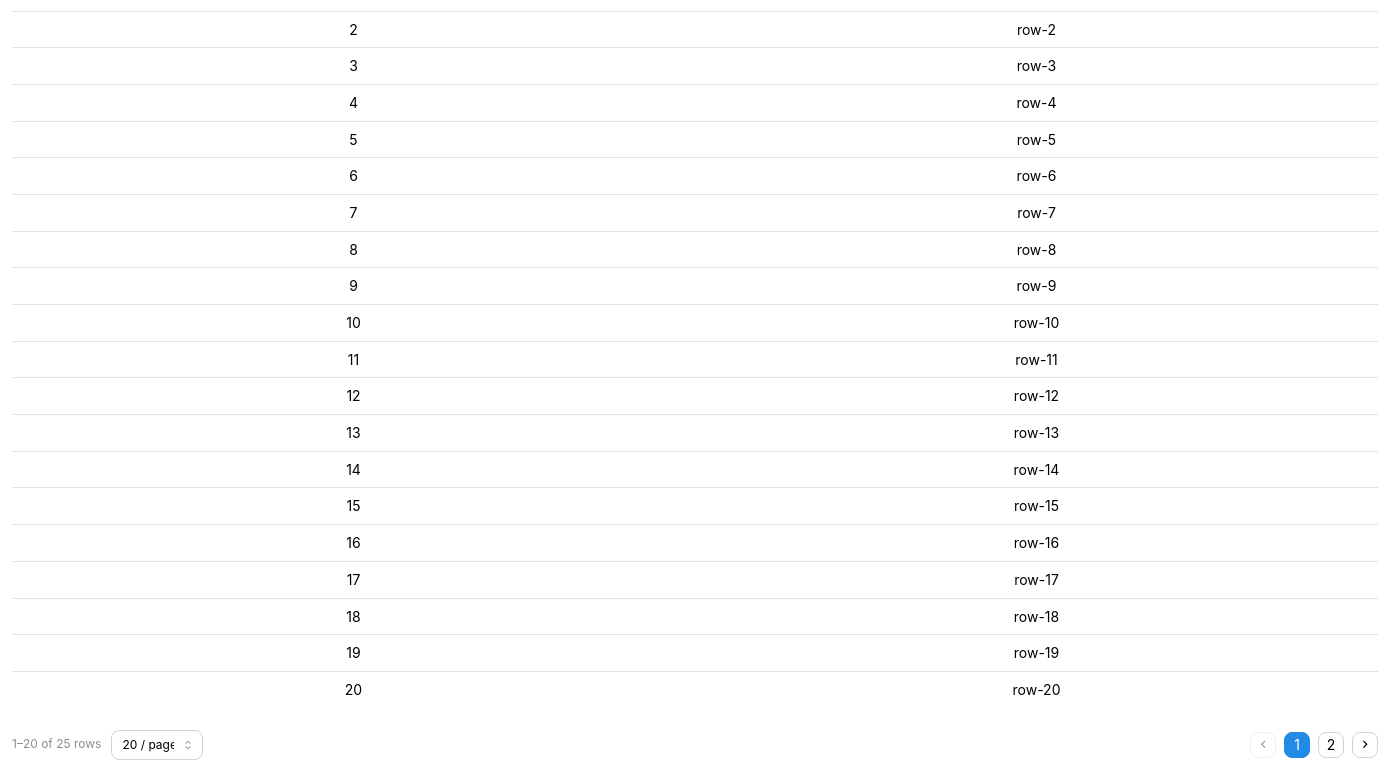
Test: DataTable pagination & loading › paginates client-side by default (20 per page)
The image size is (1390, 760).
(page scrolled)
Expected: the text "row-20" is shown, [695,671,1378,708]
Expected: the text "row-21" is not shown
Step 1. Click the button "2" → click(1331, 745), box [1318,732,1344,758]
(page scrolled)
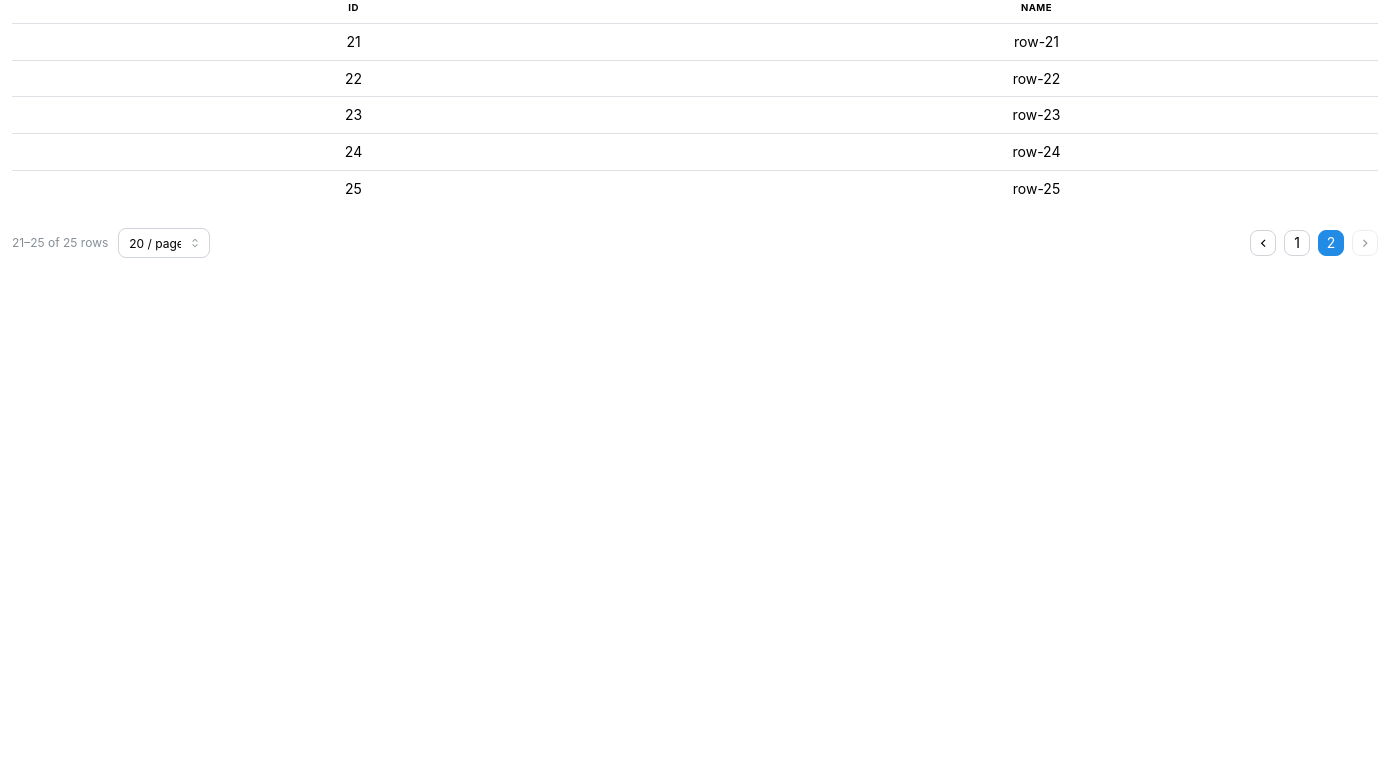
Expected: the text "row-25" is shown, [695,170,1378,206]
